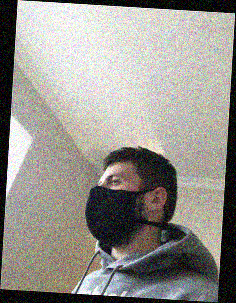with_mask: (85, 170, 146, 246)
